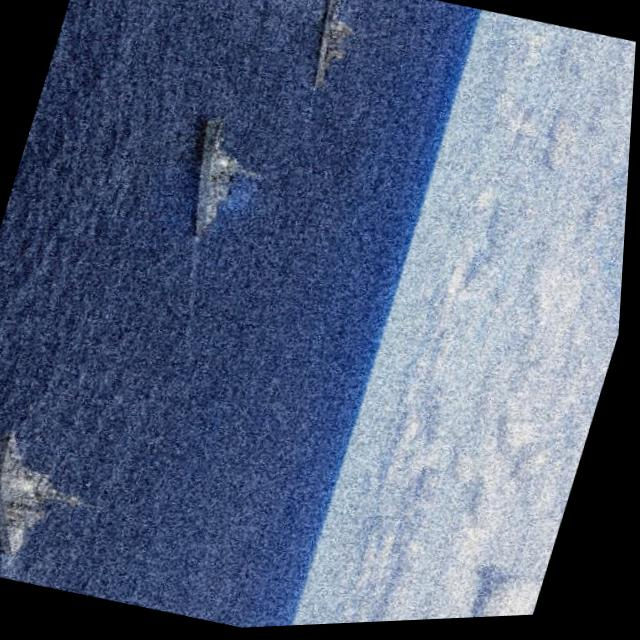ship2: (192, 119, 262, 242), (0, 435, 62, 561), (311, 0, 355, 91)
